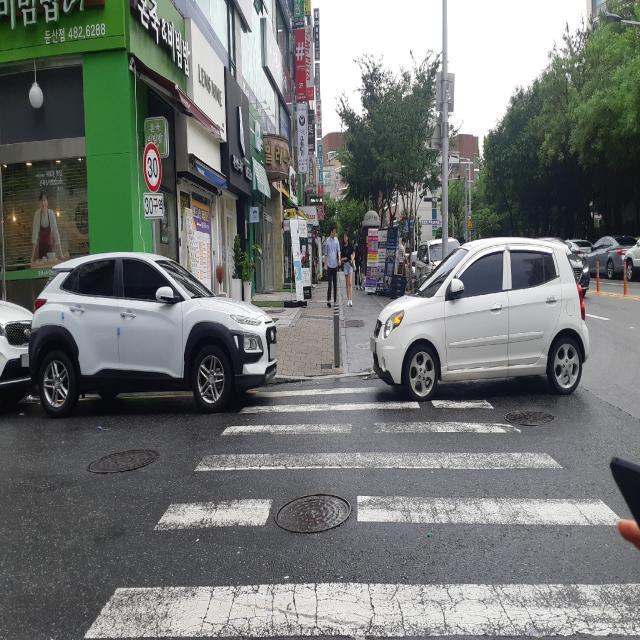횡단보도: (82, 381, 640, 640)
